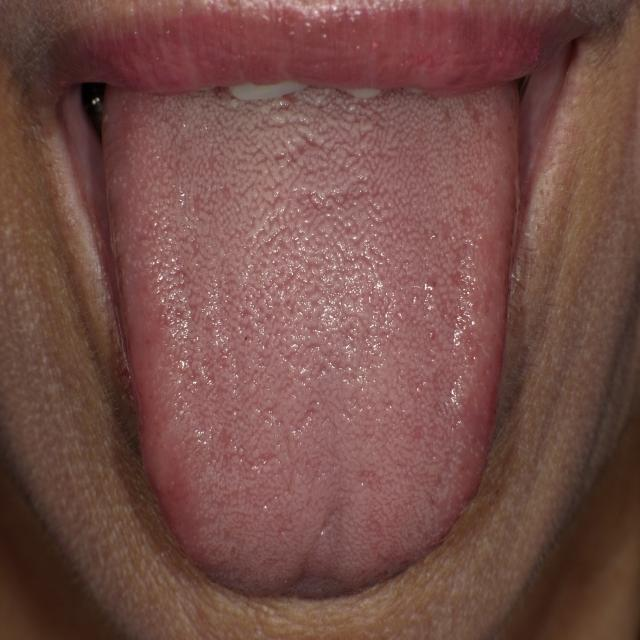baitaishe: (101, 83, 523, 601)
